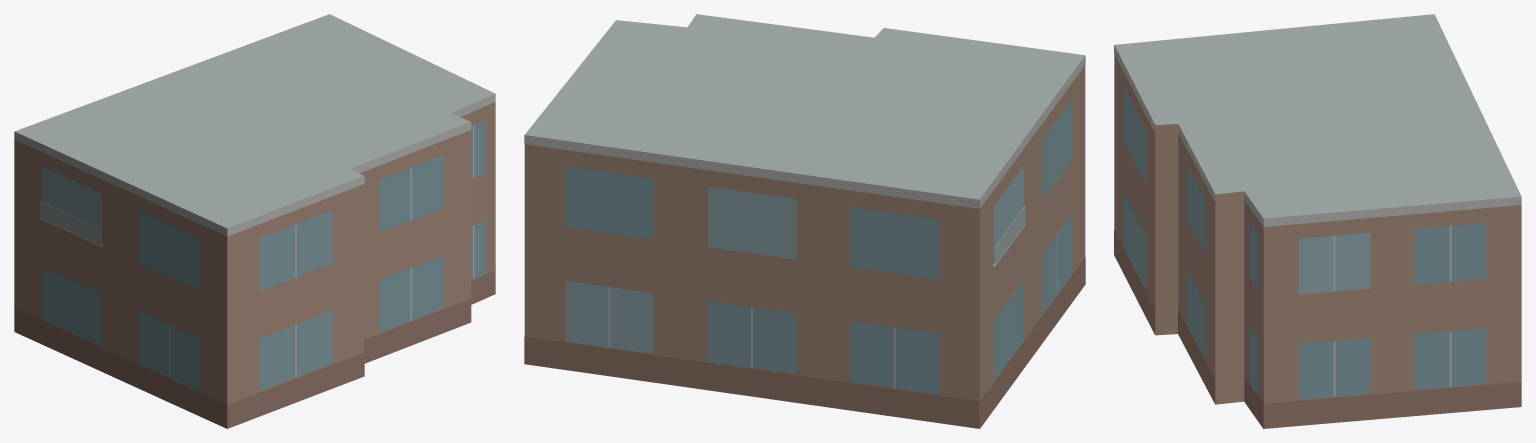
File: survey-upis-32723738.glb
3 renders of one model, left to right at view 1: azimuth 30°, elevation 25°; view 2: azimuth 150°, elevation 25°; view 3: azimuth 270°, elevation 25°, orthographic. The views are drawn at different scales.
Parts seen in each view (by area): view 1: survey-upis-32723738.tmp; view 2: survey-upis-32723738.tmp; view 3: survey-upis-32723738.tmp.
Boxes of the visible parts, x1,y1,x2,y2 form: survey-upis-32723738.tmp: [14, 14, 495, 428]; survey-upis-32723738.tmp: [524, 14, 1085, 428]; survey-upis-32723738.tmp: [1114, 14, 1521, 428].
Bounding box in the file's own units: 12.74 × 6.1 × 10.73.
